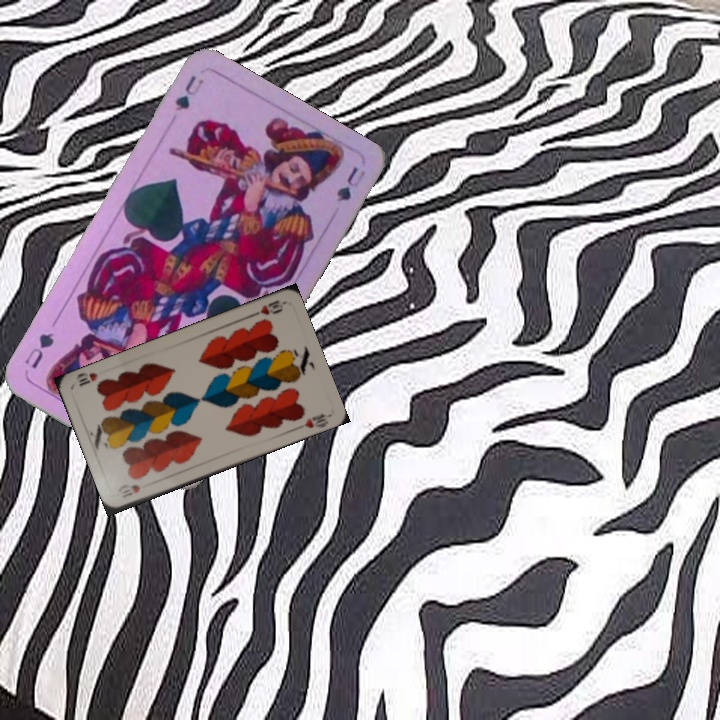GU: (170, 71, 207, 114)
H10: (247, 296, 286, 319), (118, 480, 143, 500)
